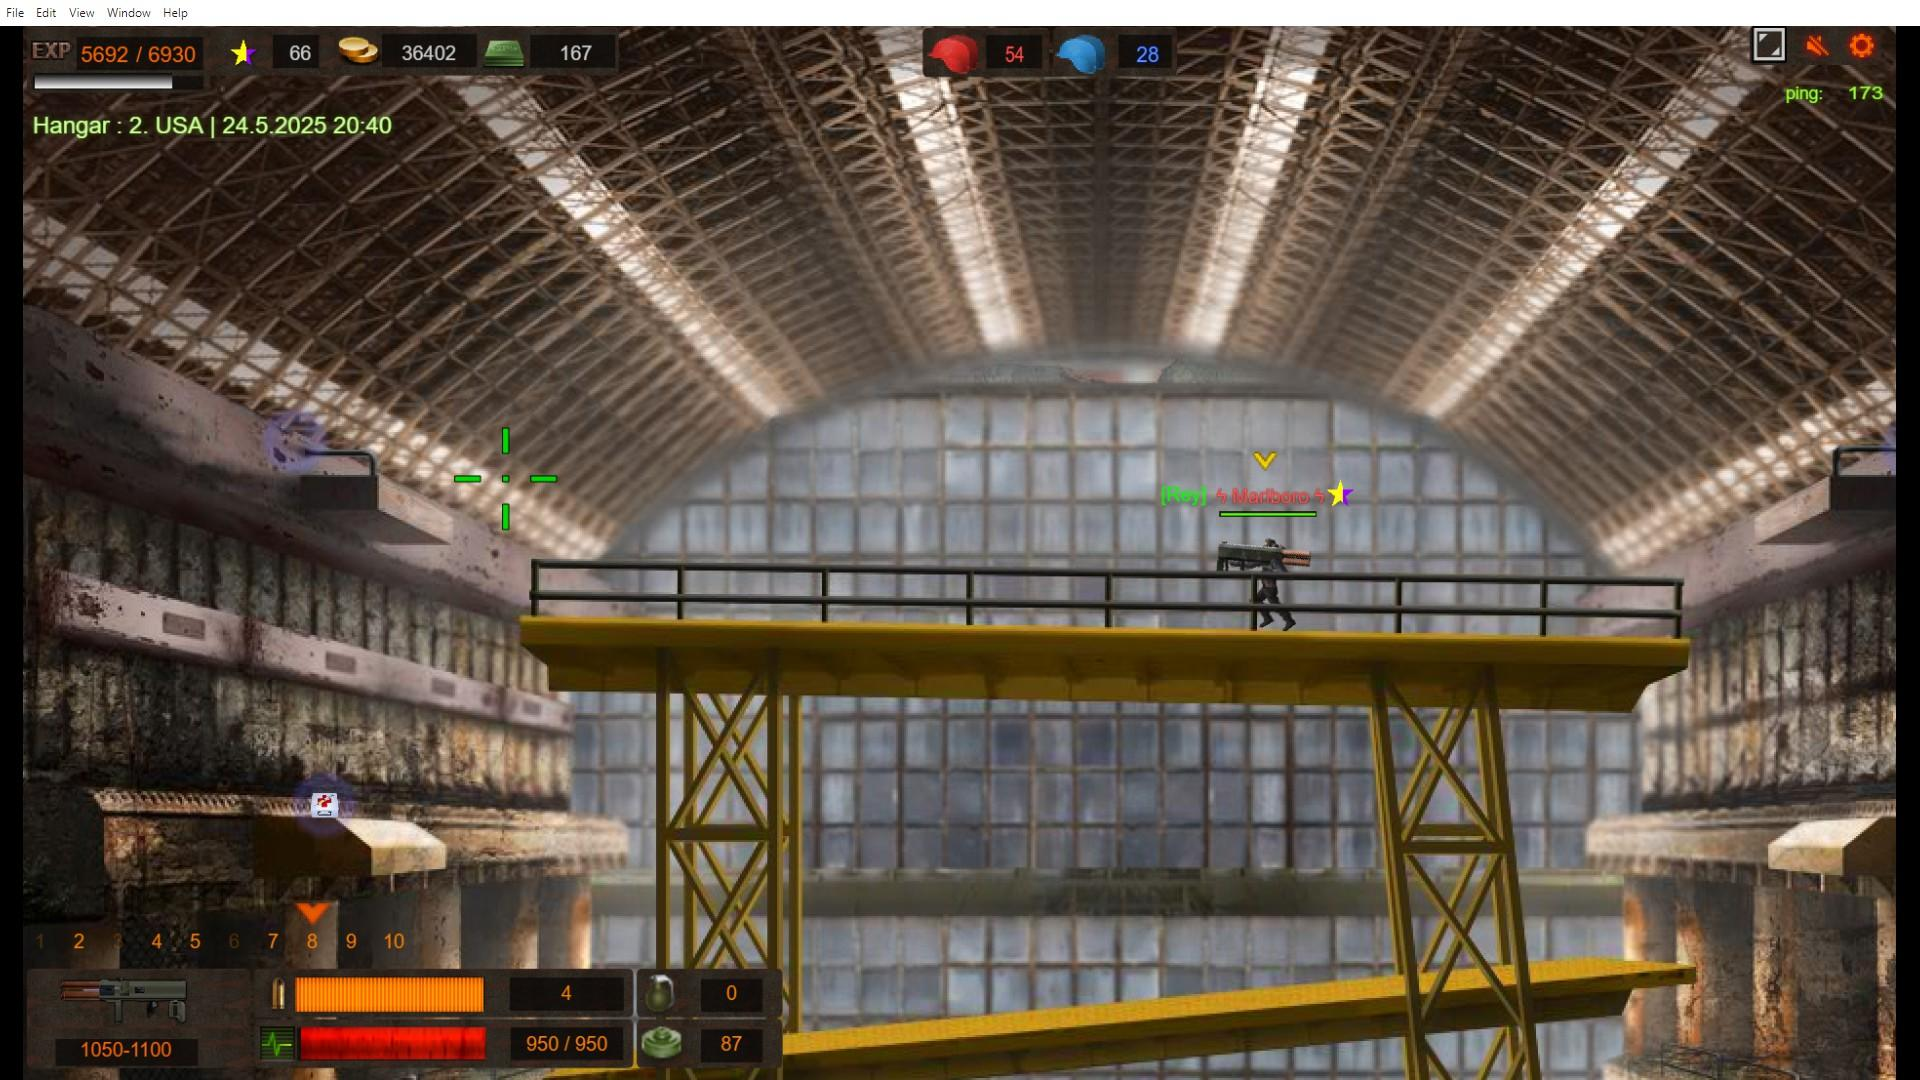enemy: (1255, 535, 1282, 628)
